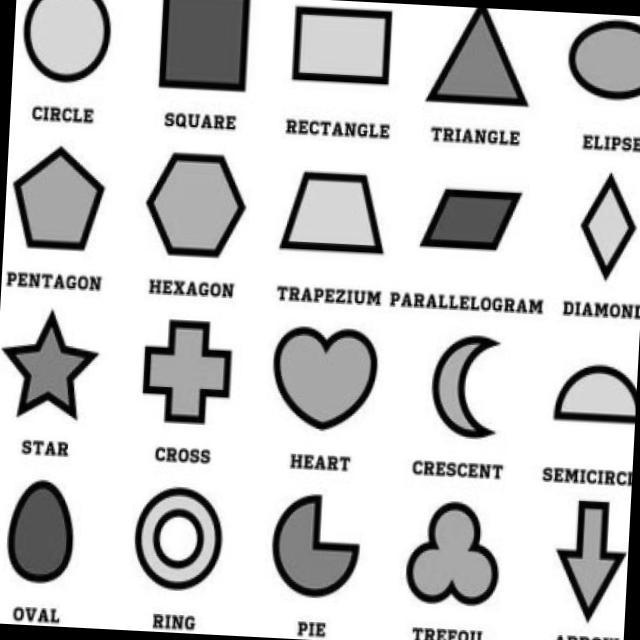circle: (18, 0, 125, 92)
cross: (123, 308, 253, 438)
square: (156, 0, 258, 107)
triangle: (422, 0, 531, 130)
